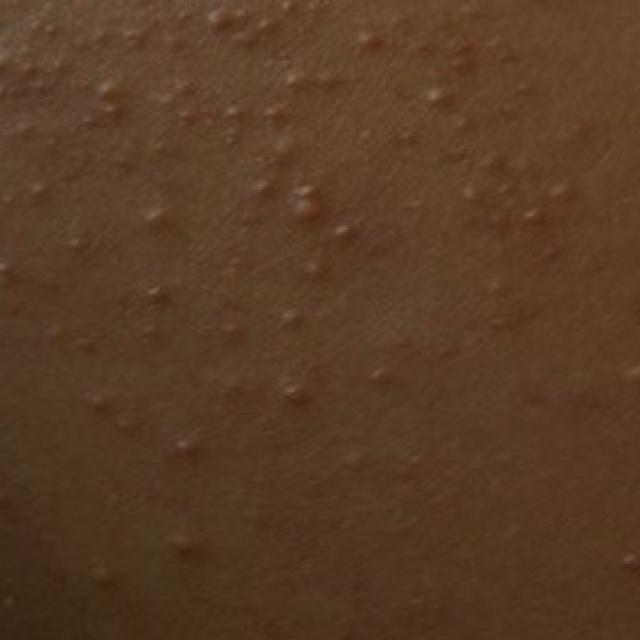keratosis pilaris: (0, 0, 570, 466)
